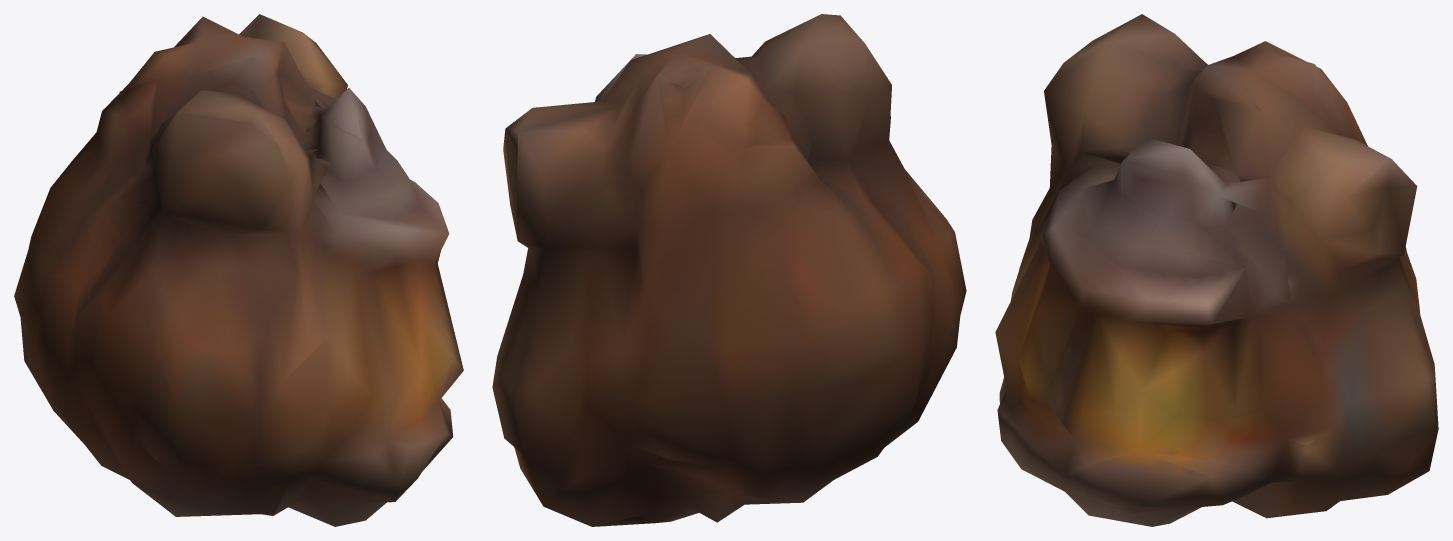
Rendered from lantern_back.glb.
The picture shows the model from 3 angles, left to right: view 1: azimuth 30°, elevation 25°; view 2: azimuth 150°, elevation 25°; view 3: azimuth 270°, elevation 25°; orthographic projection. The views are drawn at different scales.
Parts seen in each view (by area): view 1: model; view 2: model; view 3: model.
Boxes of the visible parts, bbox=[...] form: model: bbox=[14, 14, 463, 526]; model: bbox=[492, 14, 966, 526]; model: bbox=[995, 14, 1438, 526].
Bounding box in the file's own units: 0.3488 × 0.3993 × 0.3623.
1 material, 1 textured.
